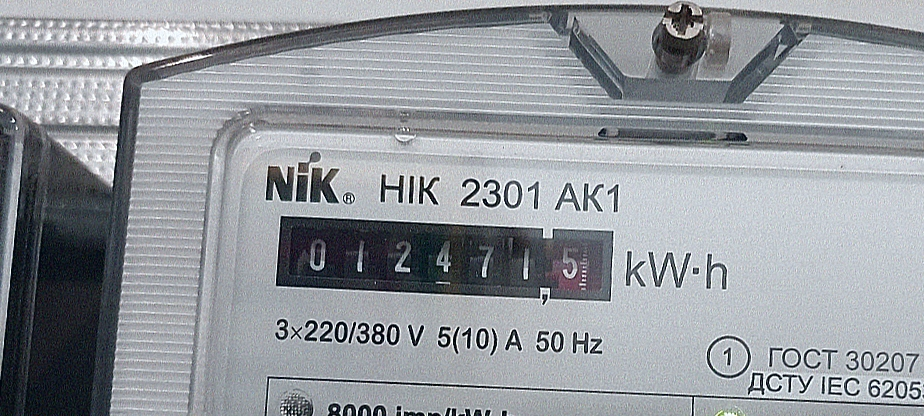0: (303, 233, 329, 271)
1: (352, 236, 366, 272), (518, 243, 531, 280)
2: (391, 236, 414, 274)
4: (432, 235, 453, 273)
5: (557, 241, 581, 280)
7: (471, 239, 495, 279)
screen: (263, 196, 627, 317)
